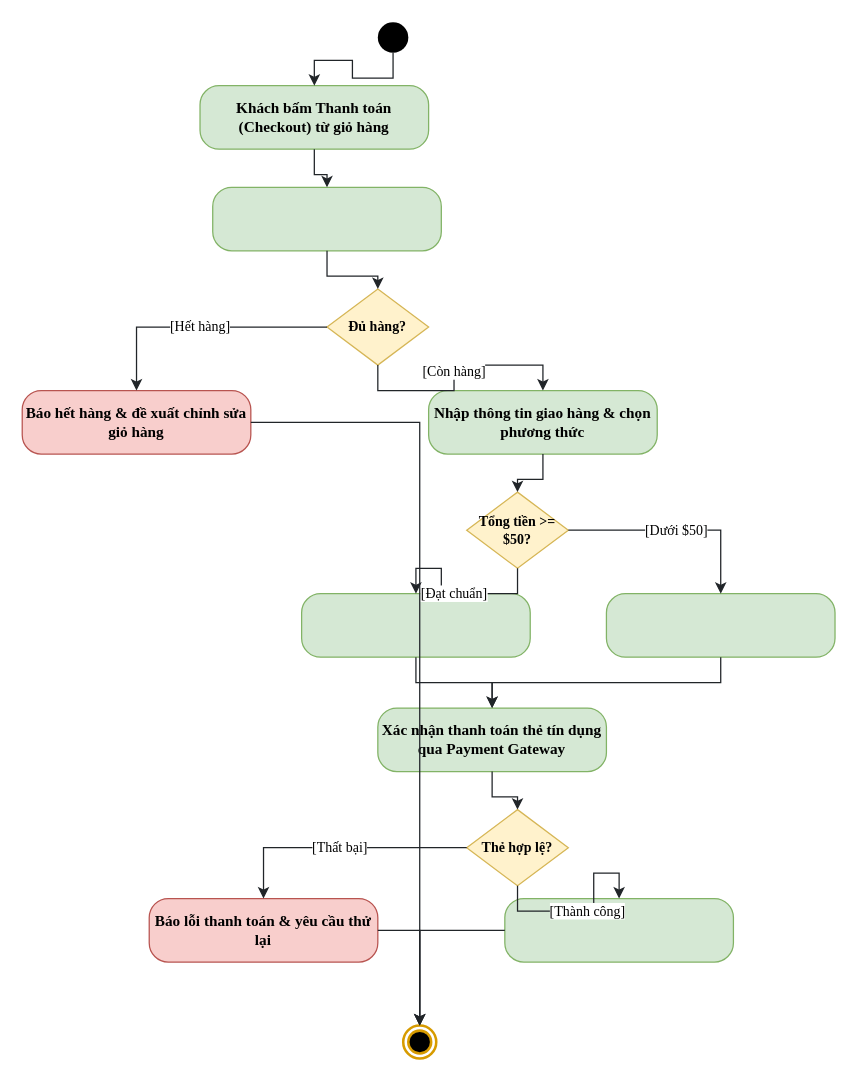
Some shapes in this 857 by 1081 pixel diagram are drawn without their labels. Each missing label, with the centre of its shape:
Cộng phí giao hàng tiêu chuẩn ($5): point (720, 624)
Kiểm tra tồn kho từng sản phẩm trong giỏ: point (326, 218)
Tạo đơn hàng, trừ tồn kho & gửi email xác nhận: point (618, 929)
Áp dụng Miễn phí giao hàng ($0): point (415, 624)
